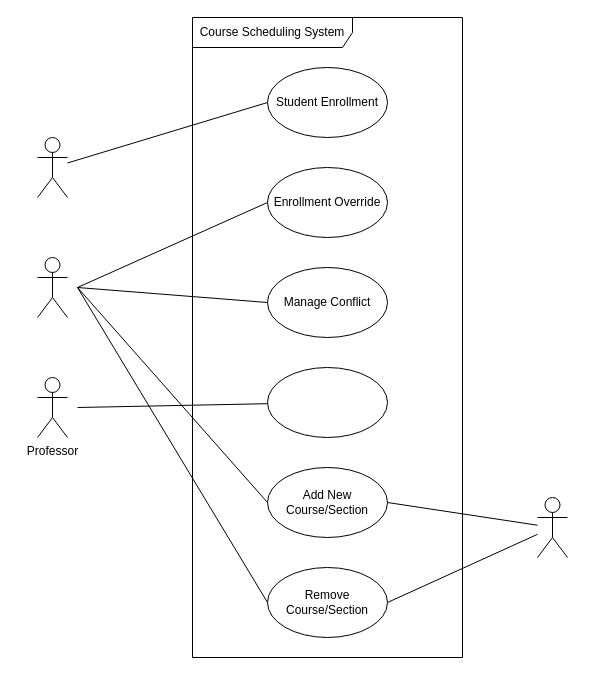
Some shapes in this 594 by 675 pixel diagram are drawn without their labels. The shapes that lost their labels are listed below. From the top down, each one's centre as x and y in pixels, then its label:
the point at 52,167: Student
the point at 52,287: Course Administrator
the point at 327,402: Professor Chooses Section
the point at 552,527: Registrar
